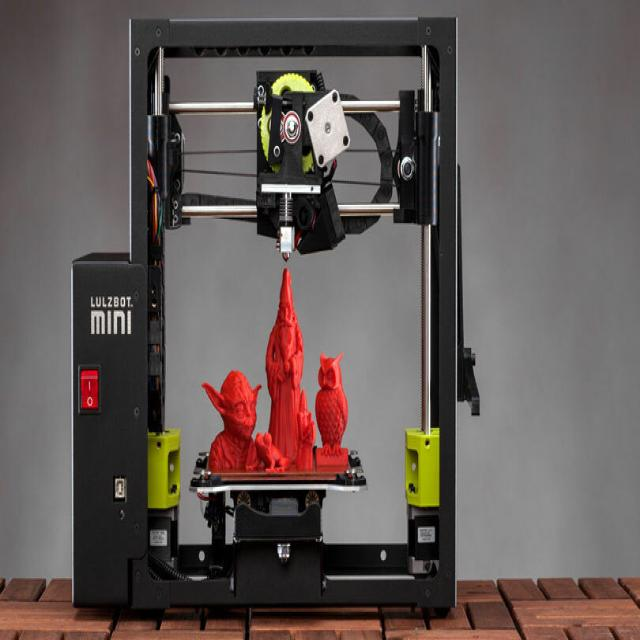Without deffect: (189, 256, 352, 494)
